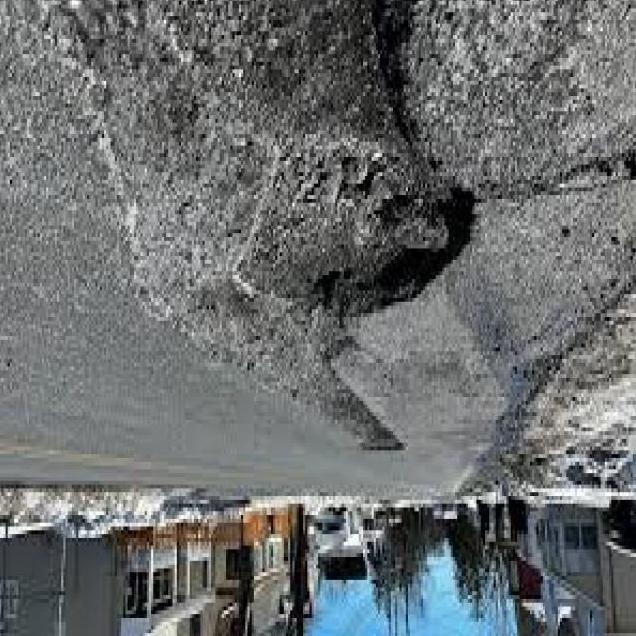pothole: (149, 0, 499, 352)
